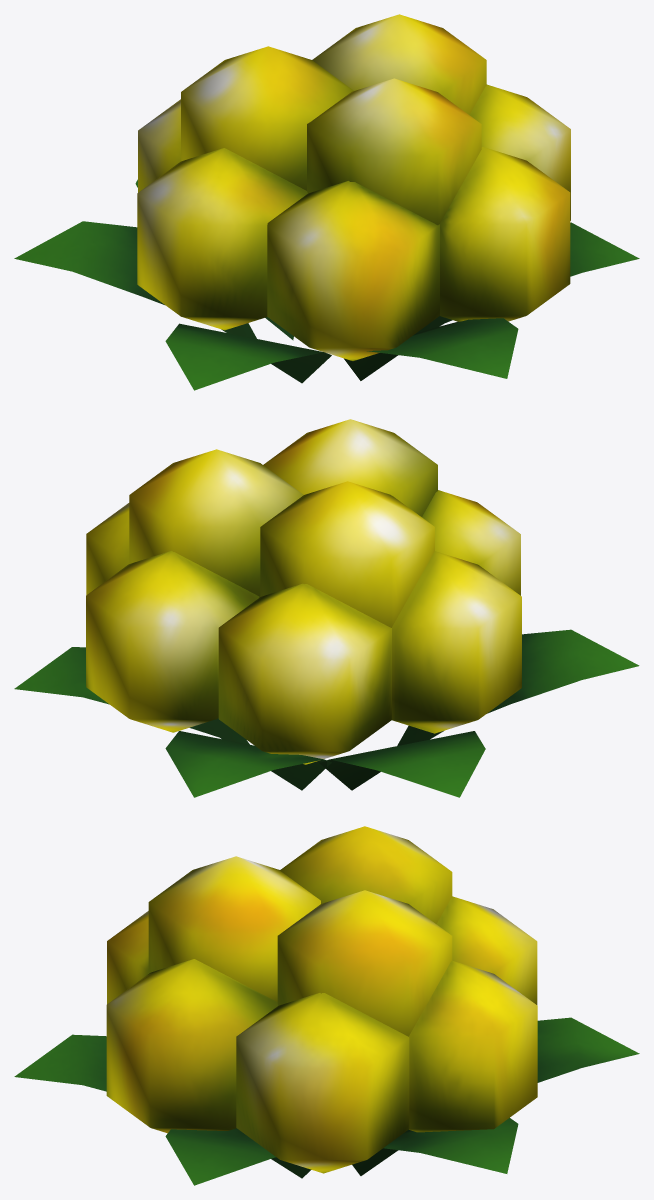
File: cloudberry.FBX
3 views of the same model, one above another, from view 1: azimuth 30°, elevation 25°; view 2: azimuth 150°, elevation 25°; view 3: azimuth 270°, elevation 25° (orthographic).
Visible parts, largest first — view 1: cloudberry; view 2: cloudberry; view 3: cloudberry.
Boxes of the visible parts, box(x1,y1,x2,y2) form: cloudberry: box(14, 14, 639, 390); cloudberry: box(14, 419, 639, 797); cloudberry: box(14, 826, 639, 1185).
Bounding box in the file's own units: 5.65 × 3.57 × 6.53.
